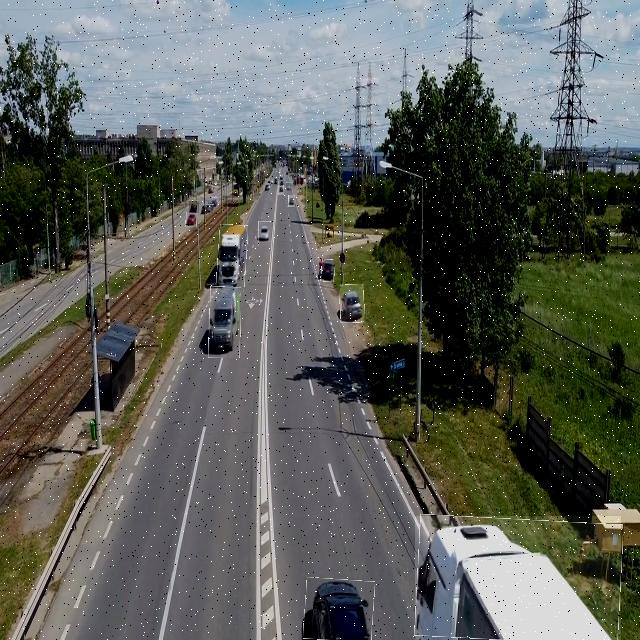Car: (304, 578, 373, 640), (340, 284, 364, 323), (258, 221, 271, 246), (320, 259, 334, 282), (186, 212, 197, 227), (189, 200, 199, 213), (204, 204, 214, 213), (288, 195, 295, 207), (265, 182, 271, 194), (212, 197, 218, 208), (278, 185, 284, 195), (286, 182, 292, 191), (278, 172, 284, 180)
Truck: (415, 516, 621, 640), (208, 287, 240, 358), (217, 225, 247, 292)
